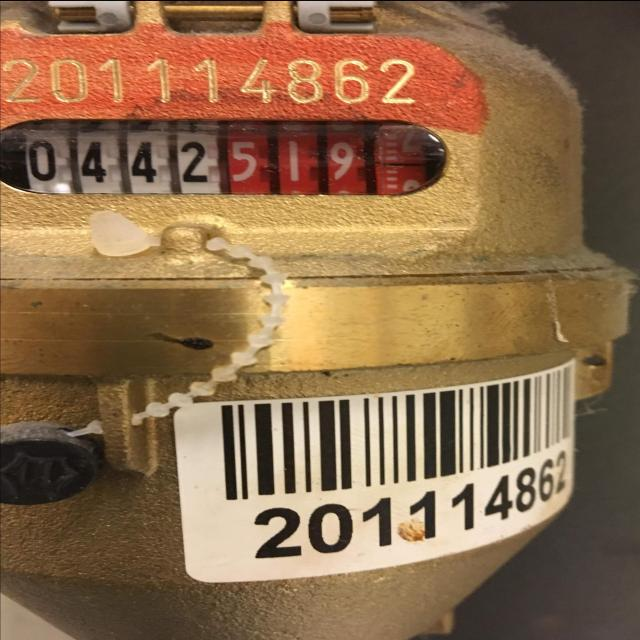gaz_meter: (0, 21, 607, 280)
indication: (19, 120, 422, 194)
